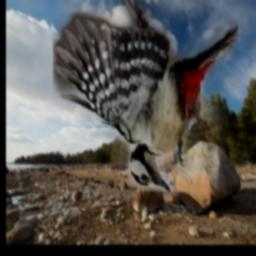Woodpecker: (53, 0, 238, 191)
